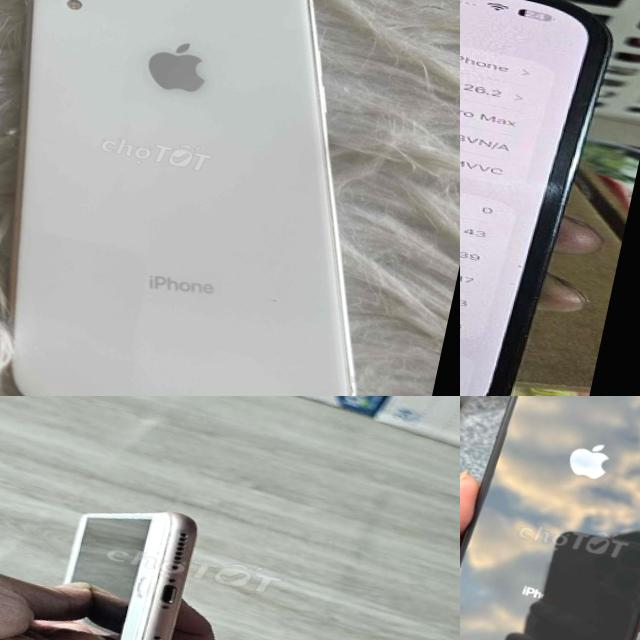gen_12_13: (460, 0, 628, 396)
gen_6: (65, 511, 196, 640)
gen_7_8: (460, 396, 640, 640)
gen_x_xs: (9, 0, 354, 396)
